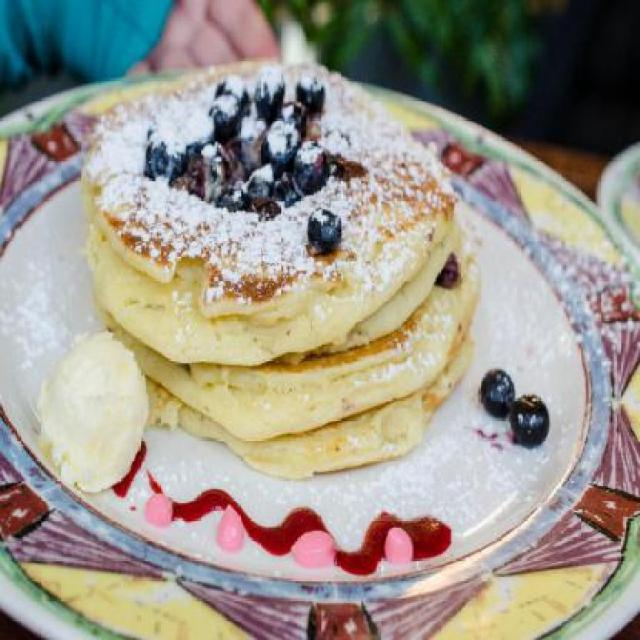Pancake: (80, 60, 452, 352), (100, 200, 482, 446), (80, 210, 457, 373), (142, 326, 476, 478)
